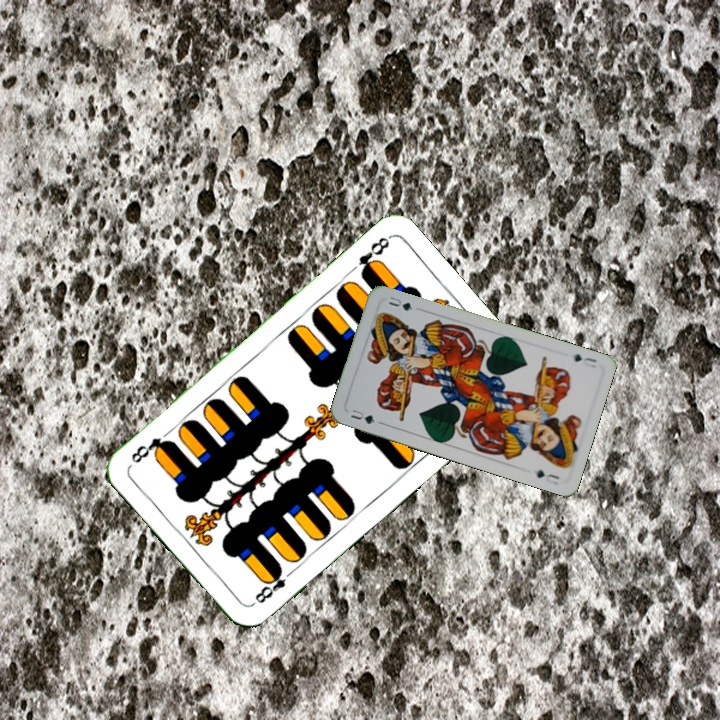E8: (248, 563, 297, 608), (355, 232, 393, 280)
GU: (347, 405, 378, 427), (570, 350, 599, 370)
